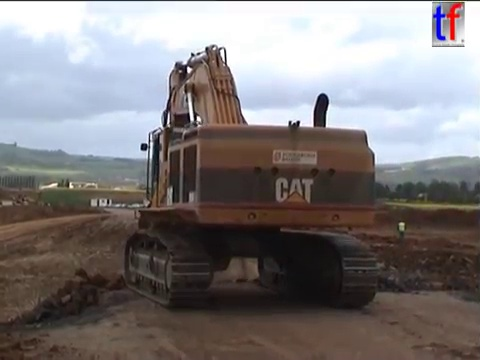excavator: (119, 40, 382, 311), (8, 188, 39, 210)
worker: (395, 214, 408, 244)
